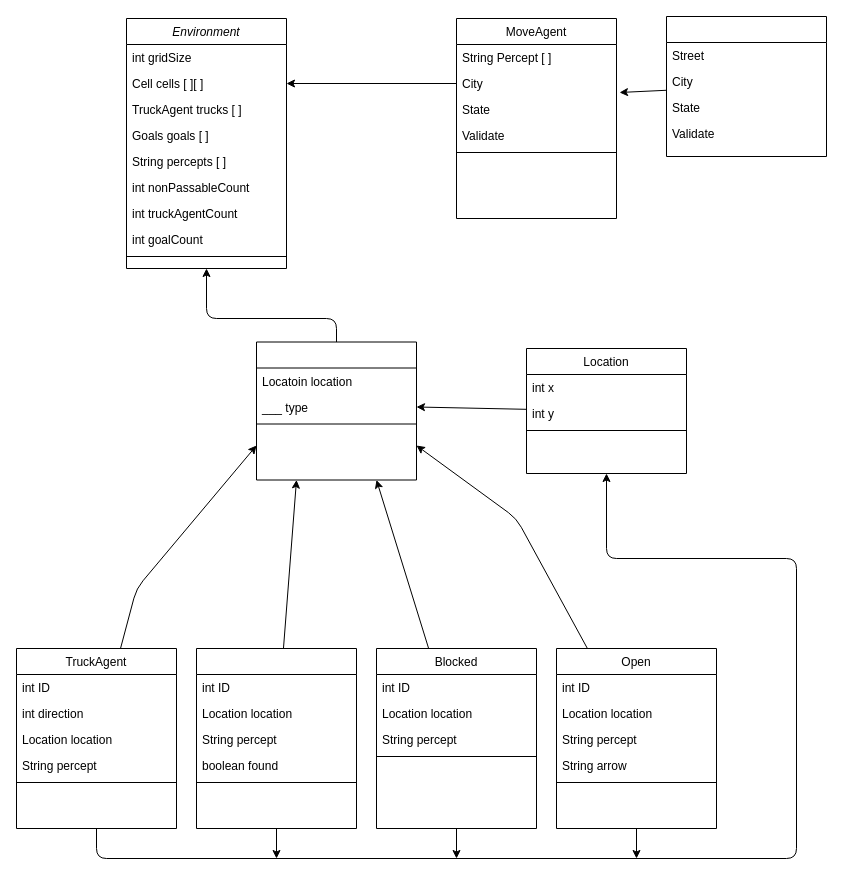
The diagram is 843 pixels wide and 875 high, and some of its shapes have lost their labels. Here are the shapes that lost their labels. From the top down, the box of each, then its label:
(666, 16, 826, 156): Action
(256, 341, 416, 480): Cell
(196, 648, 356, 828): Goal
